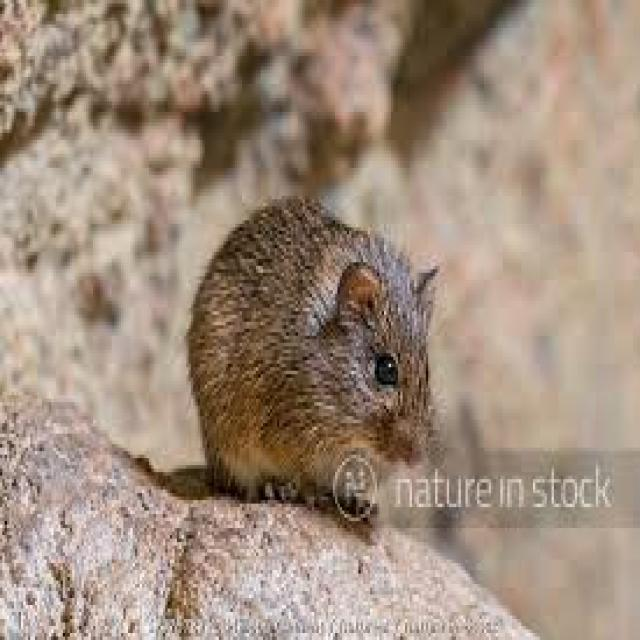Rat: (171, 136, 480, 513)
